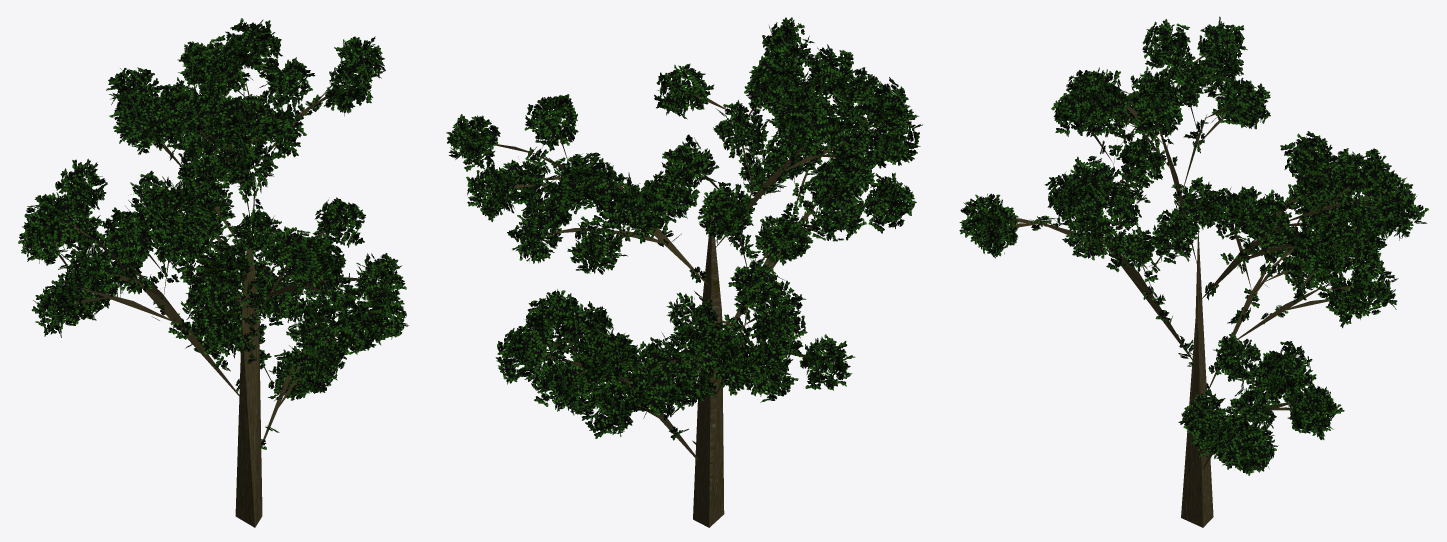
Rendered from evergreen_broad_v03_LOD1.fbx.
The picture shows the model from 3 angles, left to right: view 1: azimuth 30°, elevation 25°; view 2: azimuth 150°, elevation 25°; view 3: azimuth 270°, elevation 25°; orthographic projection. The views are drawn at different scales.
Visible parts, largest first — view 1: evergreen_broad_v03_LOD1; view 2: evergreen_broad_v03_LOD1; view 3: evergreen_broad_v03_LOD1.
Part boxes in pixels (box(x1,y1,x2,y2)): evergreen_broad_v03_LOD1: box(18, 18, 408, 527); evergreen_broad_v03_LOD1: box(446, 17, 922, 527); evergreen_broad_v03_LOD1: box(959, 16, 1428, 527).
Bounding box in the file's own units: 2224 × 2546 × 2660.
Materials: 2 (2 with a texture image).
